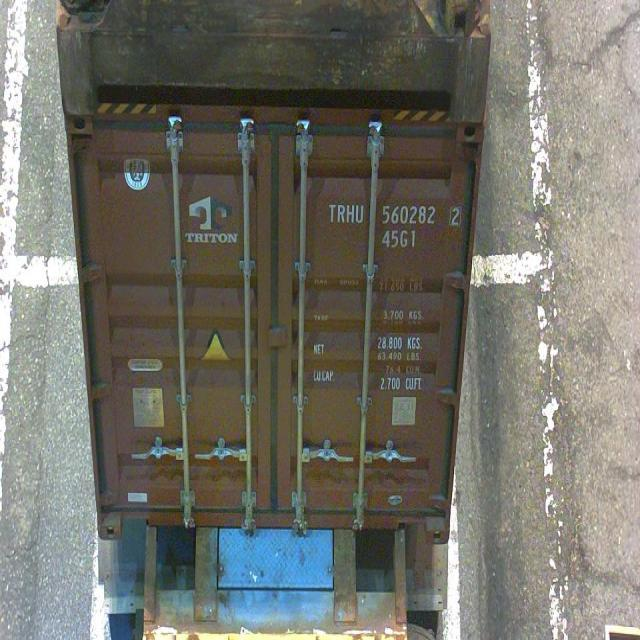ISO: (384, 230, 421, 248)
container_number: (327, 198, 464, 228)
